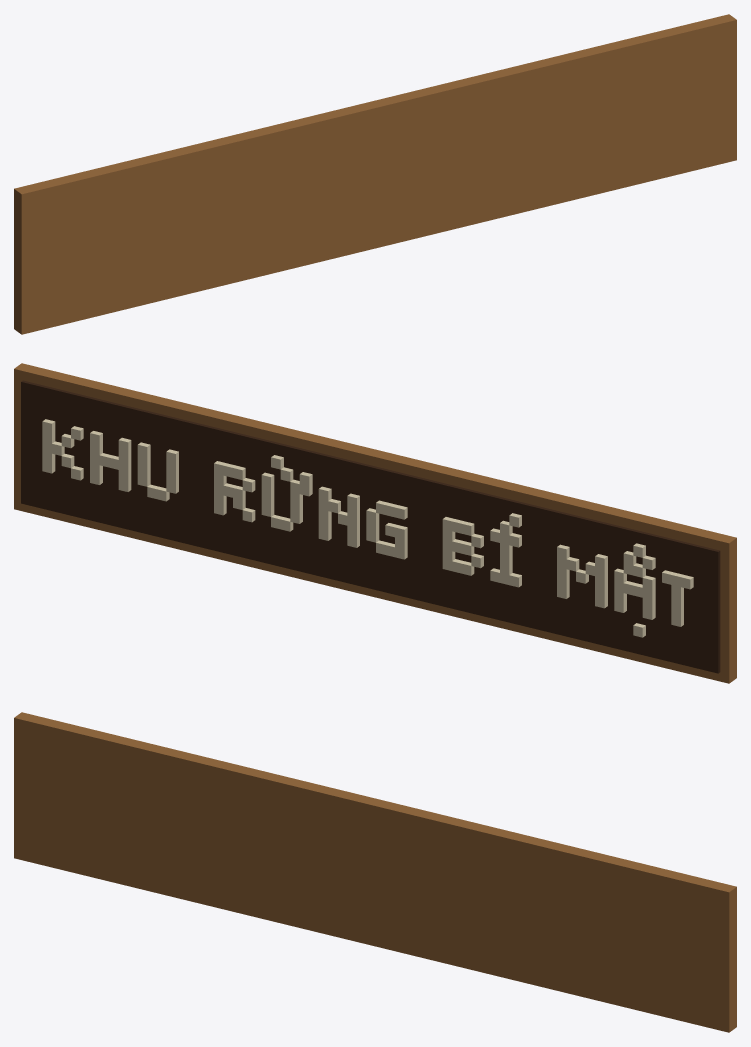
The model's file is th-sign-khu-rung-bi-mat.glb.
3 renders of one model, top to bottom at view 1: azimuth 30°, elevation 25°; view 2: azimuth 150°, elevation 25°; view 3: azimuth 330°, elevation 25°, orthographic.
Parts seen in each view (by area): view 1: box-prop; view 2: box-prop; view 3: box-prop.
Part boxes in pixels (left/top/right/bottom): box-prop: left=14, top=14, right=736, bottom=334; box-prop: left=14, top=363, right=736, bottom=683; box-prop: left=14, top=712, right=736, bottom=1032.
Size of the model in its own units: 6.38 by 1.2 by 0.2.
